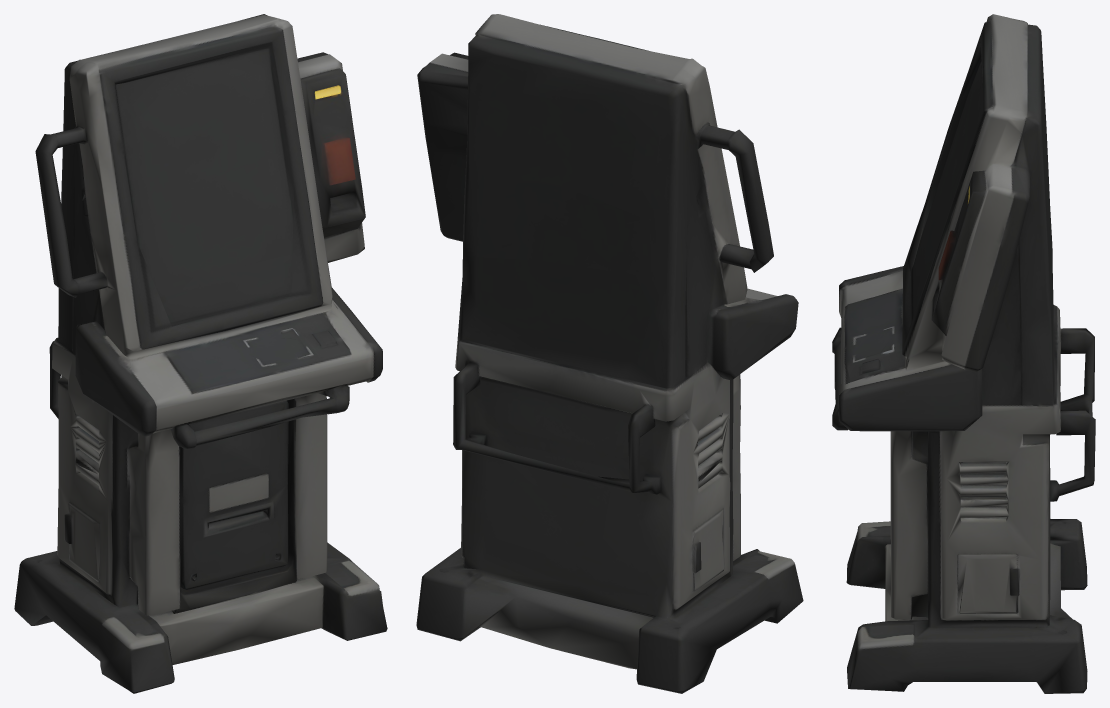
The model's file is ENV_ALL_110_v001_RAW.glb.glb.
The picture shows the model from 3 angles, left to right: view 1: azimuth 30°, elevation 25°; view 2: azimuth 150°, elevation 25°; view 3: azimuth 270°, elevation 25°; orthographic projection. The views are drawn at different scales.
Visible parts, largest first — view 1: tripo_node_7d1c42c9-3cbc-46f8-8d5e-b8565af9338d; view 2: tripo_node_7d1c42c9-3cbc-46f8-8d5e-b8565af9338d; view 3: tripo_node_7d1c42c9-3cbc-46f8-8d5e-b8565af9338d.
Boxes of the visible parts, x1,y1,x2,y2 form: tripo_node_7d1c42c9-3cbc-46f8-8d5e-b8565af9338d: (14, 14, 387, 693); tripo_node_7d1c42c9-3cbc-46f8-8d5e-b8565af9338d: (416, 14, 803, 693); tripo_node_7d1c42c9-3cbc-46f8-8d5e-b8565af9338d: (832, 14, 1095, 693).
Bounding box in the file's own units: 0.5514 × 0.981 × 0.4093.
Materials: 1 (1 with a texture image).
